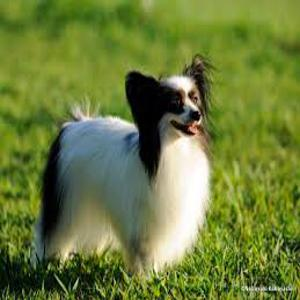yell: (37, 52, 212, 278)
